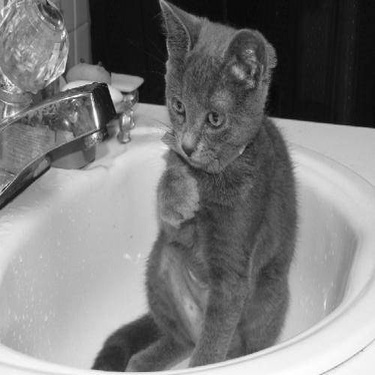cat: (88, 1, 299, 371)
